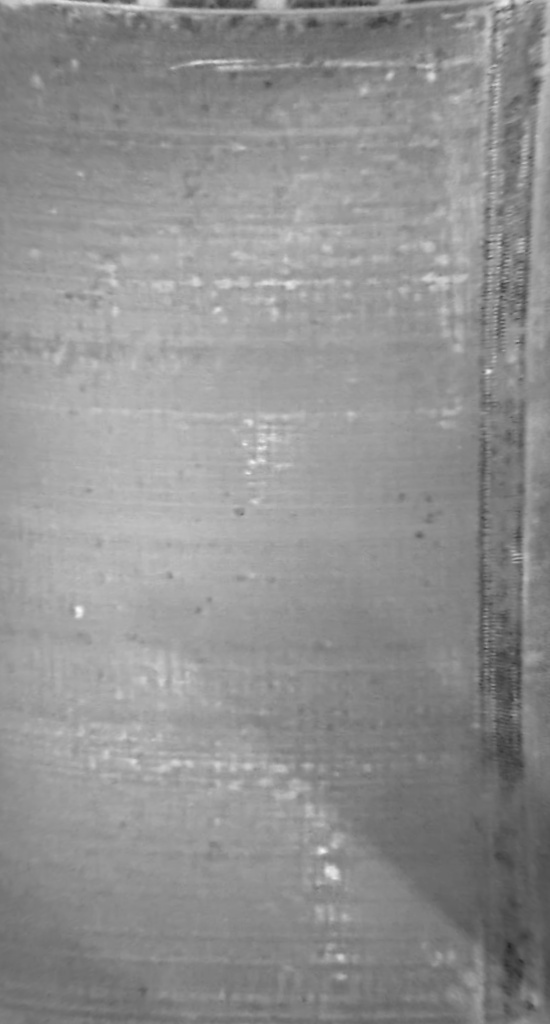splice: (447, 1, 550, 1022)
